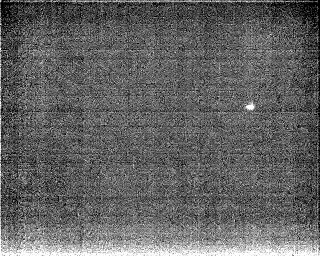AIRPLANE: (244, 102, 257, 112)
